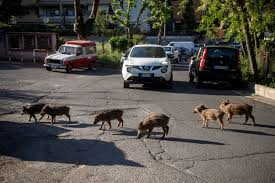boar: (136, 111, 174, 141), (190, 103, 230, 130), (90, 105, 126, 134)
